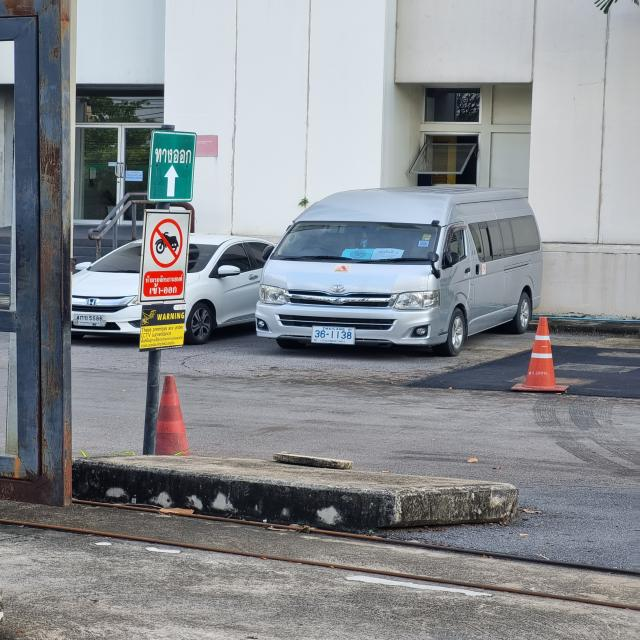license_plate: (312, 325, 356, 346), (72, 313, 107, 328)
